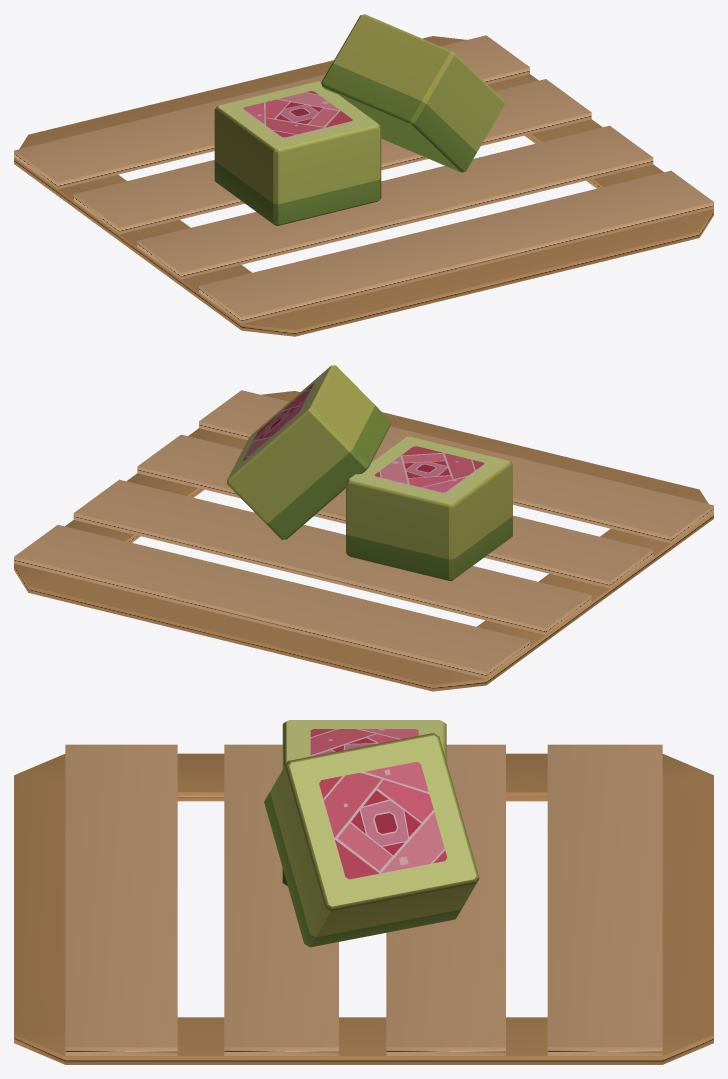
The model's file is BC_cookrecipe_S_23.fbx.
3 views of the same model, one above another, from view 1: azimuth 30°, elevation 25°; view 2: azimuth 150°, elevation 25°; view 3: azimuth 270°, elevation 25° (orthographic). The views are drawn at different scales.
Visible parts, largest first — view 1: base, BC_cookrecipe_S_24 1; view 2: base, BC_cookrecipe_S_24 1; view 3: base, BC_cookrecipe_S_24 1.
Part boxes in pixels (left/top/right/bottom): base: left=14, top=35, right=713, bottom=336; BC_cookrecipe_S_24 1: left=214, top=14, right=504, bottom=225; base: left=14, top=390, right=713, bottom=691; BC_cookrecipe_S_24 1: left=227, top=365, right=512, bottom=580; base: left=14, top=744, right=713, bottom=1064; BC_cookrecipe_S_24 1: left=264, top=720, right=479, bottom=947.
Bounding box in the file's own units: 3.54 × 1.07 × 3.47.
